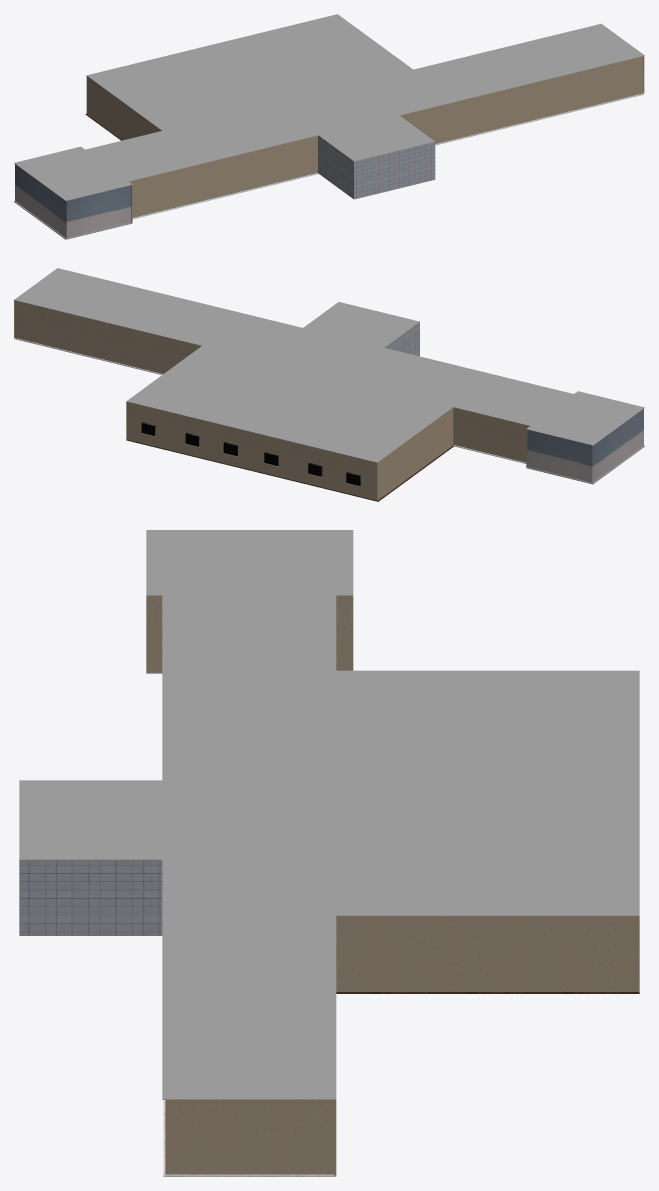
Rendered from Map_Finale.fbx.
3 renders of one model, top to bottom at view 1: azimuth 30°, elevation 25°; view 2: azimuth 150°, elevation 25°; view 3: azimuth 270°, elevation 25°, orthographic. The views are drawn at different scales.
Visible parts, largest first — view 1: Plafond_01, Plafond_00, Mur_Couloir_03, Plafond_03, Mur_WC_02, Plafond_02, Mur_Chambre_02, Mur_Classe_00, Mur_Chambre_01, Mur_WC_01, Sol_Couloir; view 2: Plafond_01, Plafond_00, Mur_Couloir_00, Mur_Fenetre_00, Mur_Fenetre_01, Plafond_03, Plafond_02, Mur_Classe_00, Mur_Chambre_03, Mur_Chambre_01, Mur_WC_01, Sol_Salle_Classe (+1 smaller); view 3: Plafond_01, Plafond_00, Mur_Classe_01, Plafond_03, Mur_Couloir_02, Plafond_02, Mur_WC_00, Mur_Couloir_04.
Boxes of the visible parts, box(x1,y1,x2,y2) form: Plafond_01: box(85, 23, 644, 181); Plafond_00: box(86, 14, 413, 130); Mur_Couloir_03: box(129, 56, 642, 217); Plafond_03: box(14, 146, 132, 200); Mur_WC_02: box(354, 142, 435, 199); Plafond_02: box(318, 115, 434, 161); Mur_Chambre_02: box(66, 185, 131, 237); Mur_Classe_00: box(86, 76, 161, 140); Mur_Chambre_01: box(15, 164, 66, 238); Mur_WC_01: box(318, 135, 353, 198); Sol_Couloir: box(132, 93, 644, 219); Plafond_01: box(14, 268, 573, 425); Plafond_00: box(126, 346, 453, 462); Mur_Couloir_00: box(14, 300, 529, 462); Mur_Fenetre_00: box(244, 430, 377, 500); Mur_Fenetre_01: box(126, 402, 244, 467); Plafond_03: box(526, 391, 644, 445); Plafond_02: box(303, 302, 419, 347); Mur_Classe_00: box(377, 408, 452, 500); Mur_Chambre_03: box(527, 430, 592, 482); Mur_Chambre_01: box(592, 409, 643, 482); Mur_WC_01: box(385, 322, 419, 356); Sol_Salle_Classe: box(126, 439, 453, 501); Plafond_01: box(162, 595, 336, 1099); Plafond_00: box(334, 670, 639, 916); Mur_Classe_01: box(336, 916, 639, 991); Plafond_03: box(146, 530, 353, 596); Mur_Couloir_02: box(165, 1100, 334, 1174); Plafond_02: box(19, 780, 162, 860); Mur_WC_00: box(19, 860, 162, 935); Mur_Couloir_04: box(146, 596, 353, 671).
Bounding box in the file's own units: 6726 × 431 × 3097.
